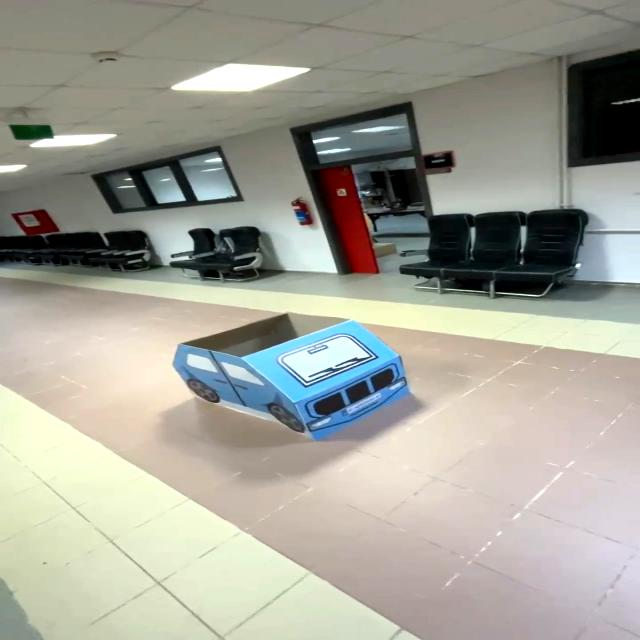blue_car: (135, 299, 445, 452)
